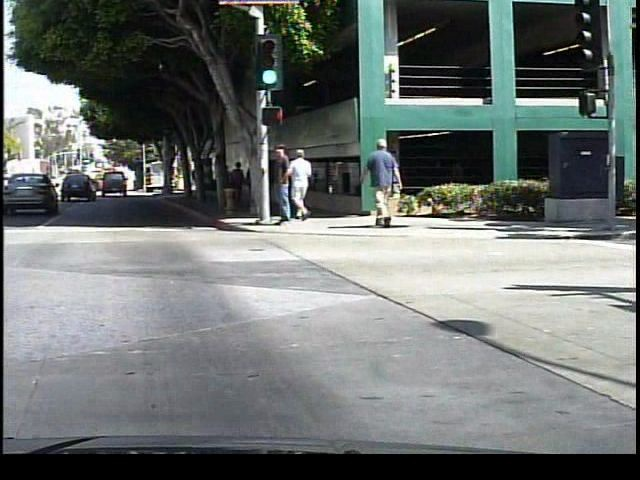person: (358, 134, 405, 228), (271, 143, 300, 235), (285, 145, 316, 219), (230, 158, 247, 209)
